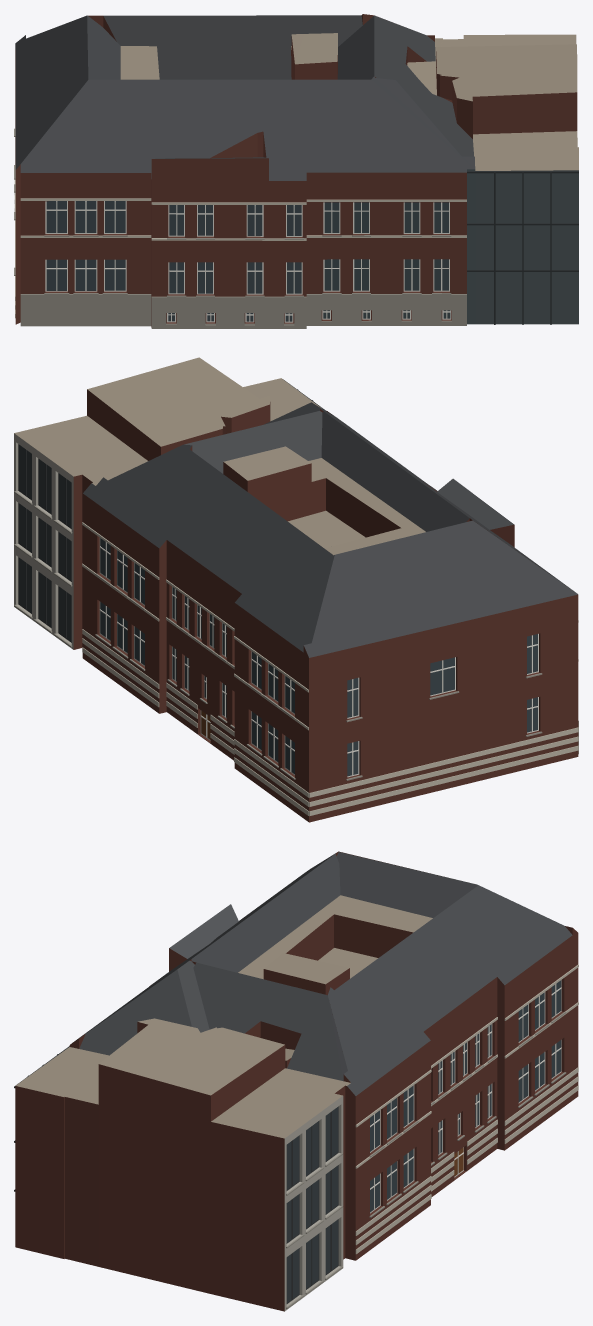
Rendered from recipe-large-zeemanlab-170498.glb.
3 renders of one model, top to bottom at view 1: azimuth 30°, elevation 25°; view 2: azimuth 150°, elevation 25°; view 3: azimuth 270°, elevation 25°, orthographic. The views are drawn at different scales.
Parts seen in each view (by area): view 1: zeemanlab-170498; view 2: zeemanlab-170498; view 3: zeemanlab-170498.
Boxes of the visible parts, x1,y1,x2,y2 form: zeemanlab-170498: [14, 14, 578, 328]; zeemanlab-170498: [14, 357, 578, 822]; zeemanlab-170498: [14, 851, 578, 1311].
Bounding box in the file's own units: 41.96 × 15.79 × 35.68.
